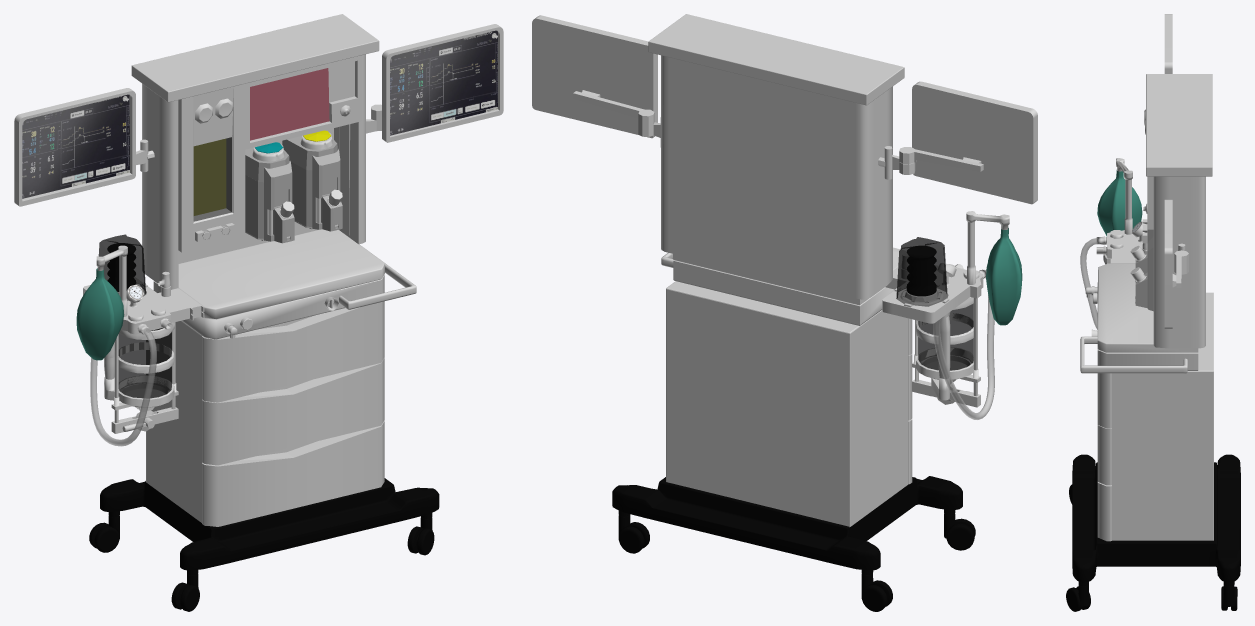
The model's file is Neuromonitoring_Anesthesia.fbx.
The picture shows the model from 3 angles, left to right: view 1: azimuth 30°, elevation 25°; view 2: azimuth 150°, elevation 25°; view 3: azimuth 270°, elevation 25°; orthographic projection. The views are drawn at different scales.
Visible parts, largest first — view 1: Main_Body, BreathingSystem, Char, ScreenLeft, ScreenRight, Vaporizers, Wheel05, Anim; view 2: Main_Body, BreathingSystem, Char, ScreenRight, ScreenLeft, Wheel05, Anim, ScreenRightBase, ScreenLeftBase; view 3: Main_Body, Char, BreathingSystem, Vaporizers, ScreenLeft, Wheel05, ScreenRight, ScreenLeftBase.
Part boxes in pixels (x1,y1,x2,y2): Main_Body: (131, 14, 416, 526); BreathingSystem: (76, 234, 204, 446); Char: (100, 478, 439, 570); ScreenLeft: (382, 24, 503, 142); ScreenRight: (14, 88, 135, 206); Vaporizers: (245, 130, 342, 243); Wheel05: (89, 511, 434, 611); Anim: (107, 243, 136, 291); Main_Body: (648, 14, 912, 527); BreathingSystem: (882, 211, 1022, 419); Char: (612, 476, 962, 570); ScreenRight: (912, 81, 1037, 204); ScreenLeft: (532, 15, 657, 138); Wheel05: (618, 509, 975, 611); Anim: (906, 245, 936, 296); ScreenRightBase: (899, 147, 983, 171); ScreenLeftBase: (573, 90, 654, 126); Main_Body: (1080, 74, 1213, 541); Char: (1072, 454, 1240, 582); BreathingSystem: (1080, 158, 1147, 329); Vaporizers: (1130, 229, 1153, 311); ScreenLeft: (1164, 199, 1172, 328); Wheel05: (1066, 484, 1237, 611); ScreenRight: (1164, 14, 1172, 73); ScreenLeftBase: (1172, 250, 1188, 287).
Bounding box in the file's own units: 192 × 184 × 66.21.
